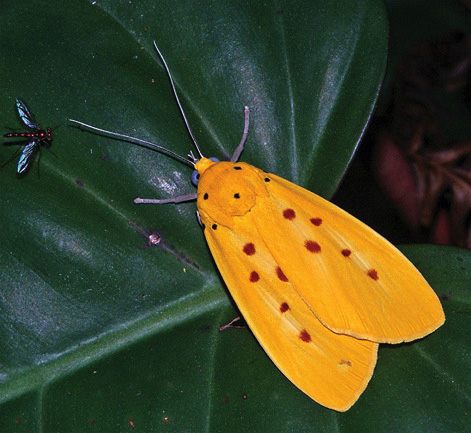Agape chloropyga: (68, 39, 449, 413)
moth: (66, 37, 447, 411)
